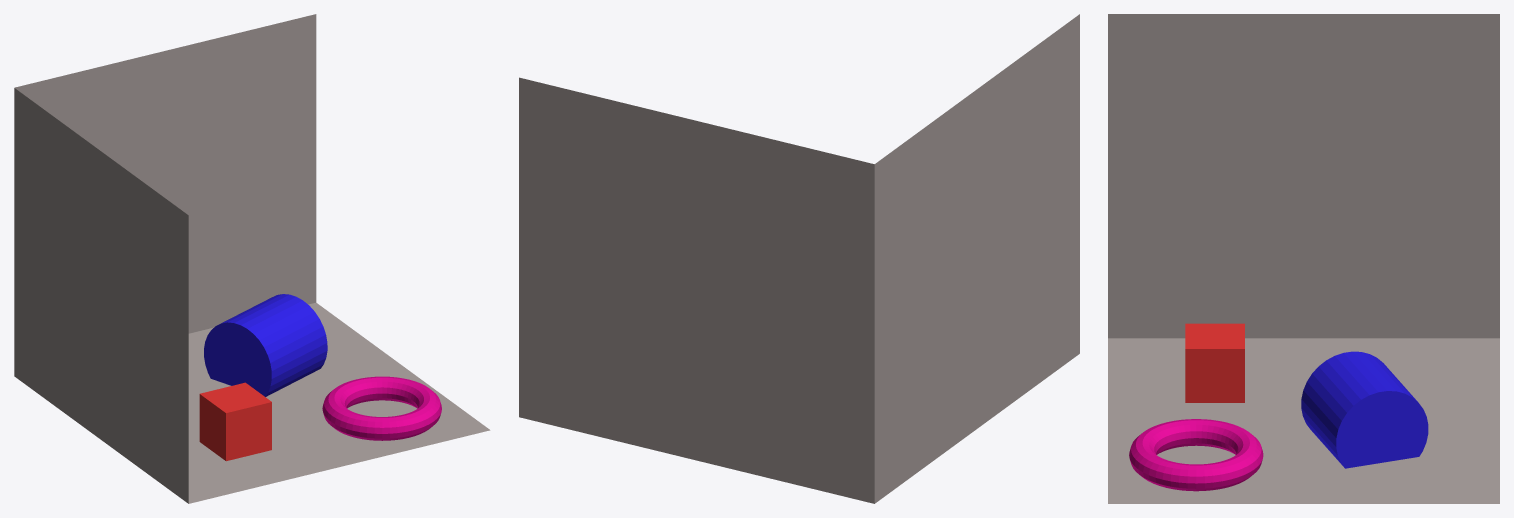
File: light-map.glb
3 renders of one model, left to right at view 1: azimuth 30°, elevation 25°; view 2: azimuth 150°, elevation 25°; view 3: azimuth 270°, elevation 25°, orthographic. The views are drawn at different scales.
Visible parts, largest first — view 1: Plane, Cylinder, Torus, Cube; view 2: Plane; view 3: Plane, Cylinder, Torus, Cube.
Part boxes in pixels (x1,y1,x2,y2): Plane: (14,14,490,503); Cylinder: (204,294,327,396); Torus: (322,376,441,440); Cube: (199,382,271,461); Plane: (519,14,1079,503); Plane: (1108,14,1499,503); Cylinder: (1301,351,1428,468); Torus: (1129,419,1263,491); Cube: (1185,323,1244,402).
Size of the model in its own units: 2 by 1.93 by 2.
